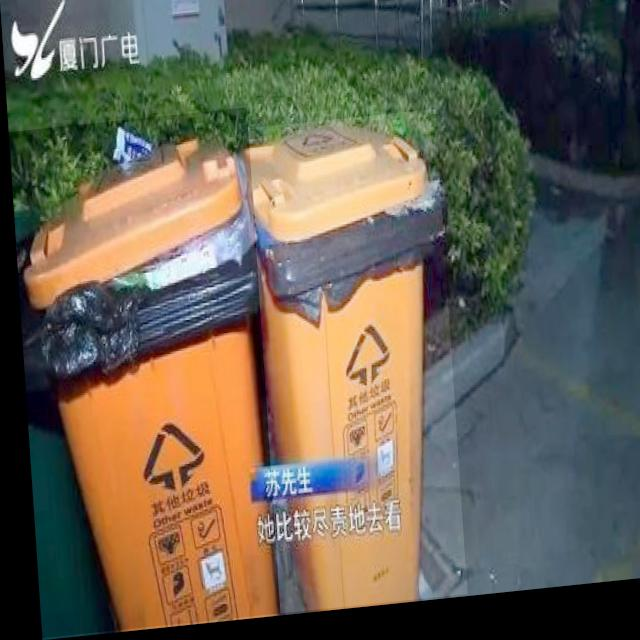garbage_bin: (233, 118, 458, 620)
overflow: (7, 113, 271, 638)
